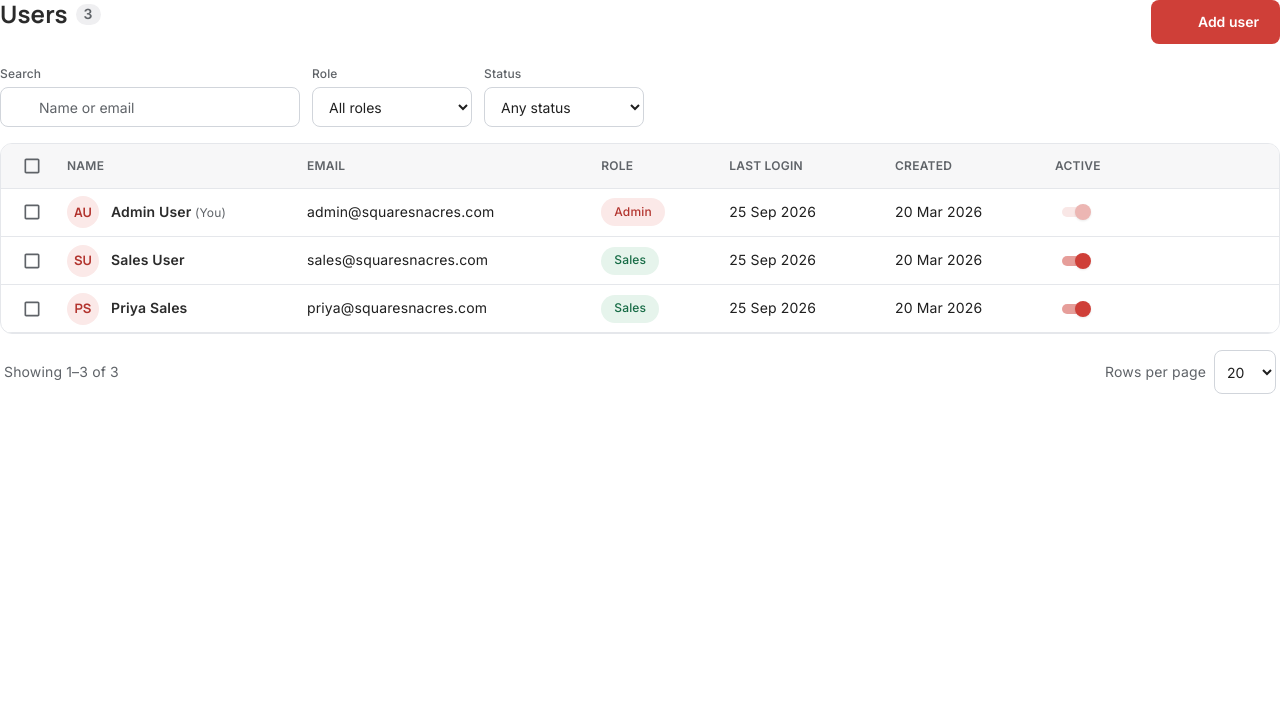
UsersPage (QA-64) › keeps the account when the hand-over is refused
This screenshot has width=1280, height=720.
Click the switch named "Sales User is active" at {"x": 1083, "y": 261}, box [1075,253,1091,269]
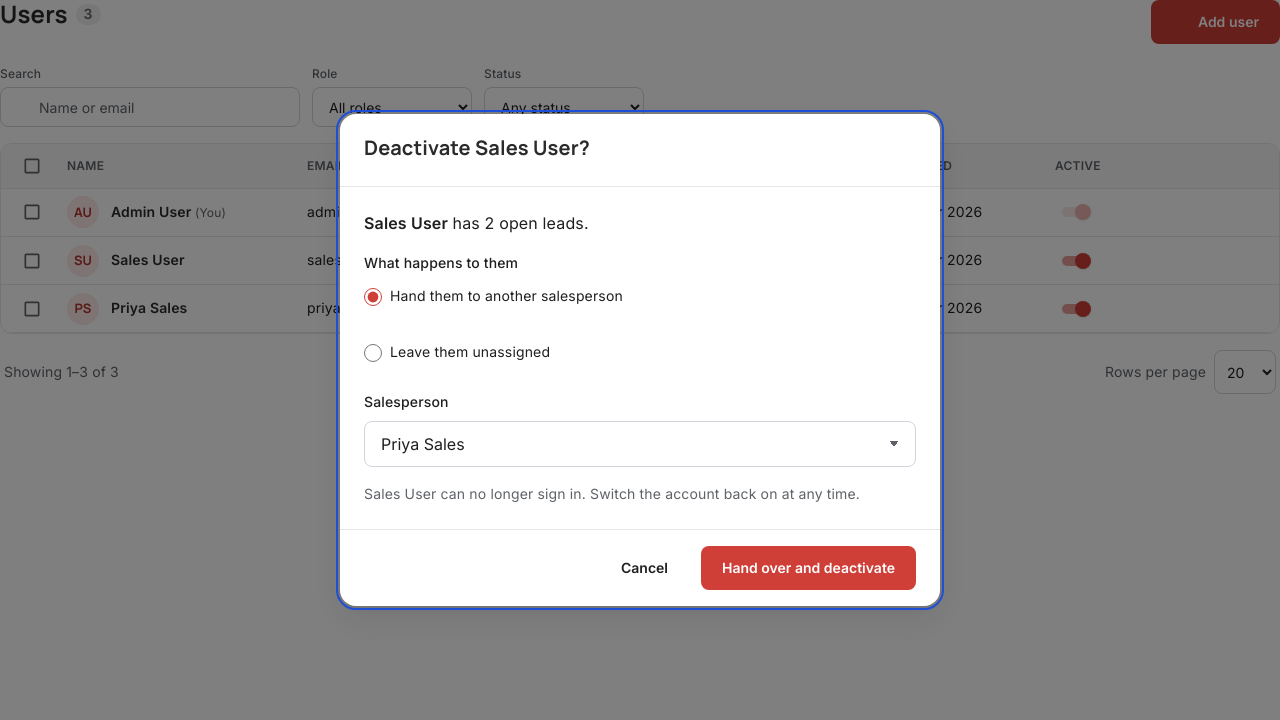
Check: the dropdown labelled "Salesperson" shows "Priya Sales", box [364,421,916,467]
Click the button "Hand over and deactivate" at {"x": 808, "y": 568}, box [701,546,916,590]
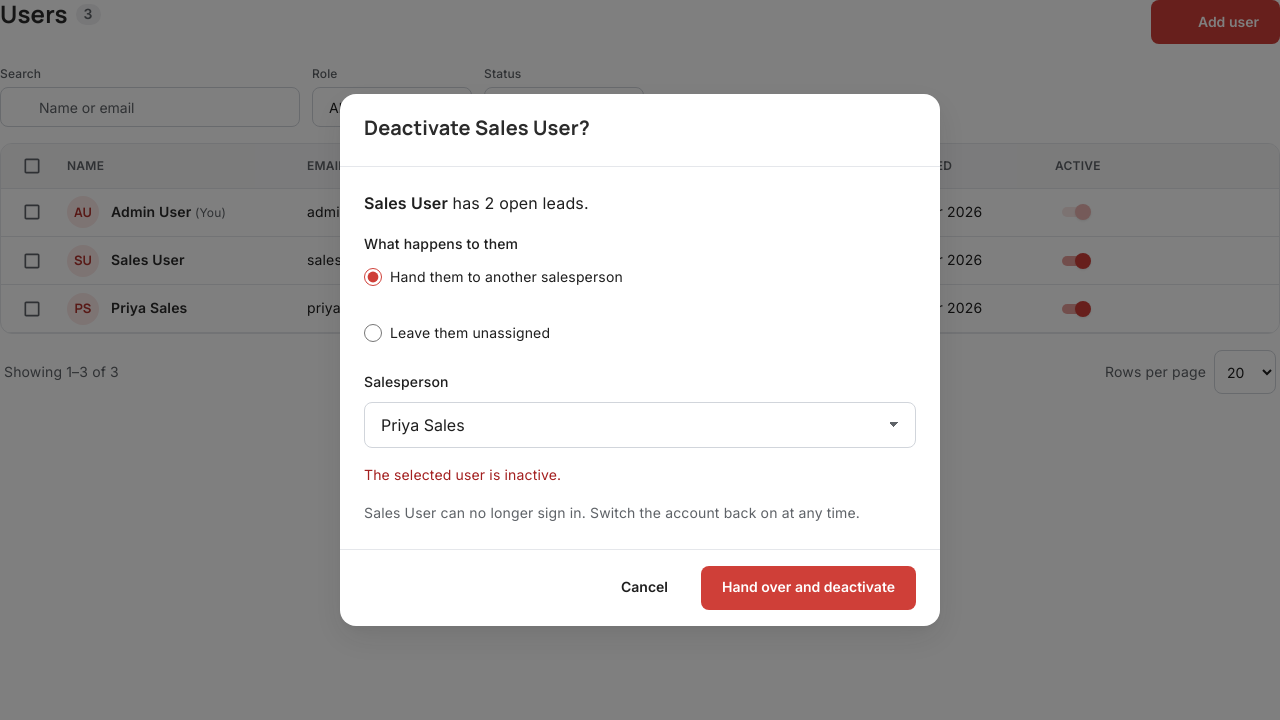
Check: the text "The selected user is inactive." is shown, box [364,466,561,483]
